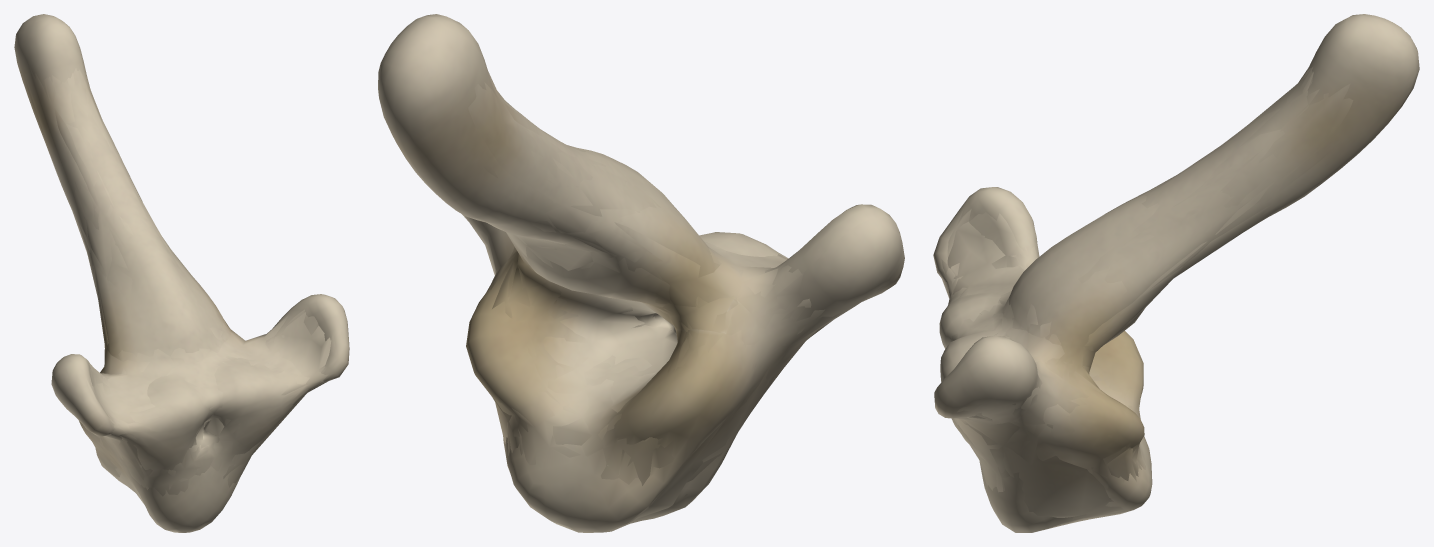
The model's file is vertebrae thoracicae 08.fbx.
3 renders of one model, left to right at view 1: azimuth 30°, elevation 25°; view 2: azimuth 150°, elevation 25°; view 3: azimuth 270°, elevation 25°, orthographic. The views are drawn at different scales.
Parts seen in each view (by area): view 1: vertebrae thoracicae 08 high, vertebrae thoracicae 08, vertebrae thoracicae 08 low; view 2: vertebrae thoracicae 08 high, vertebrae thoracicae 08, vertebrae thoracicae 08 low; view 3: vertebrae thoracicae 08 high, vertebrae thoracicae 08, vertebrae thoracicae 08 low.
Boxes of the visible parts, x1=… form: vertebrae thoracicae 08 high: x1=14, y1=14, x2=349, y2=532; vertebrae thoracicae 08: x1=24, y1=65, x2=334, y2=496; vertebrae thoracicae 08 low: x1=47, y1=69, x2=331, y2=504; vertebrae thoracicae 08 high: x1=378, y1=14, x2=904, y2=532; vertebrae thoracicae 08: x1=468, y1=73, x2=884, y2=512; vertebrae thoracicae 08 low: x1=465, y1=70, x2=832, y2=519; vertebrae thoracicae 08 high: x1=933, y1=14, x2=1419, y2=532; vertebrae thoracicae 08: x1=941, y1=67, x2=1353, y2=523; vertebrae thoracicae 08 low: x1=941, y1=68, x2=1313, y2=517.
Size of the model in its own units: 8.49 by 11.64 by 10.07.
1 material, 1 textured.
